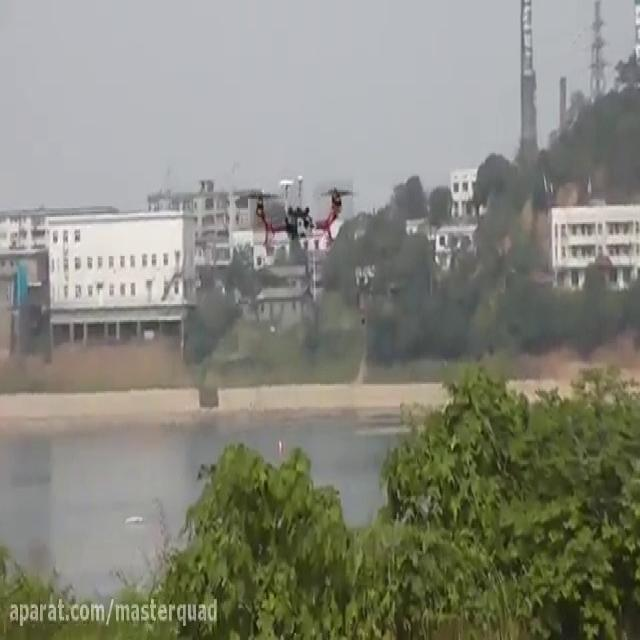drone: (247, 176, 363, 254)
